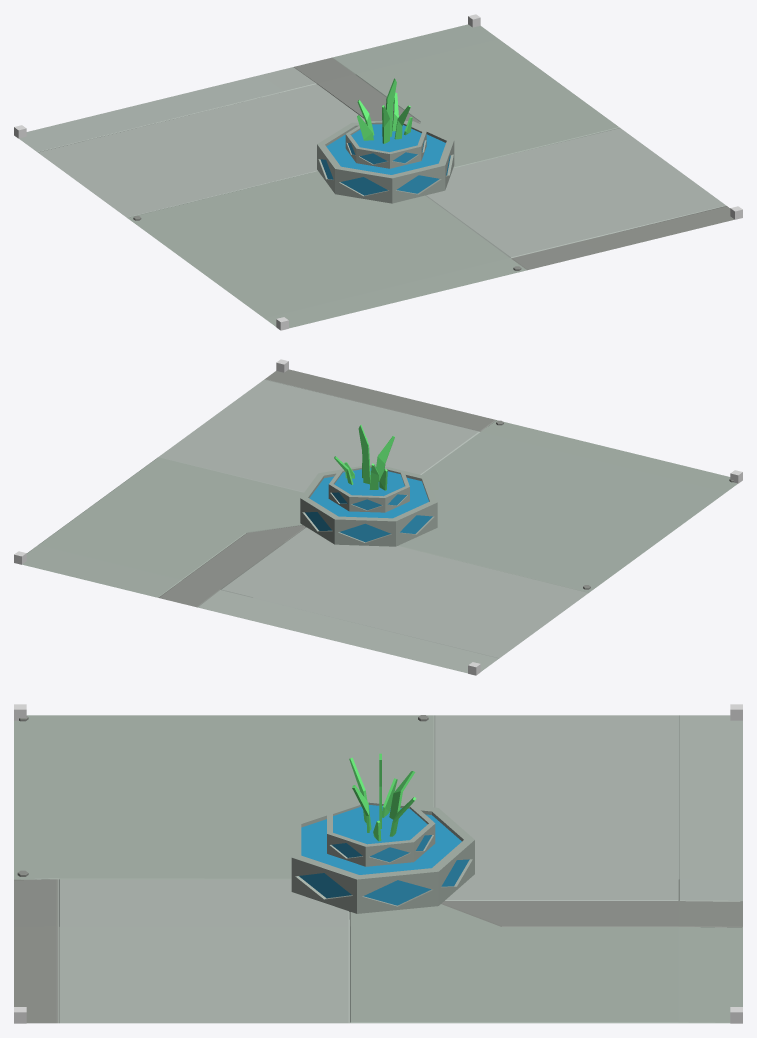
The picture shows the model from 3 angles, top to bottom: view 1: azimuth 30°, elevation 25°; view 2: azimuth 150°, elevation 25°; view 3: azimuth 270°, elevation 25°; orthographic projection. The views are drawn at different scales.
Parts seen in each view (by area): view 1: Scifi_Panel_04_Plaza014_group4.031, Cylinder.003_Cylinder.005, Cylinder.004_Cylinder.006, bush08; view 2: Scifi_Panel_04_Plaza014_group4.031, Cylinder.003_Cylinder.005, Cylinder.004_Cylinder.006, bush08; view 3: Scifi_Panel_04_Plaza014_group4.031, Cylinder.003_Cylinder.005, Cylinder.004_Cylinder.006, bush08.
Part boxes in pixels (<box>): Scifi_Panel_04_Plaza014_group4.031: <box>19,24,734,328</box>; Cylinder.003_Cylinder.005: <box>317,121,454,203</box>; Cylinder.004_Cylinder.006: <box>345,121,426,168</box>; bush08: <box>357,78,412,143</box>; Scifi_Panel_04_Plaza014_group4.031: <box>22,369,737,673</box>; Cylinder.003_Cylinder.005: <box>300,464,437,546</box>; Cylinder.004_Cylinder.006: <box>328,464,409,512</box>; bush08: <box>334,424,394,490</box>; Scifi_Panel_04_Plaza014_group4.031: <box>14,715,742,1023</box>; Cylinder.003_Cylinder.005: <box>291,800,474,913</box>; Cylinder.004_Cylinder.006: <box>327,800,435,866</box>; bush08: <box>349,753,416,841</box>.
Bounding box in the file's own units: 10 × 1.93 × 10.
